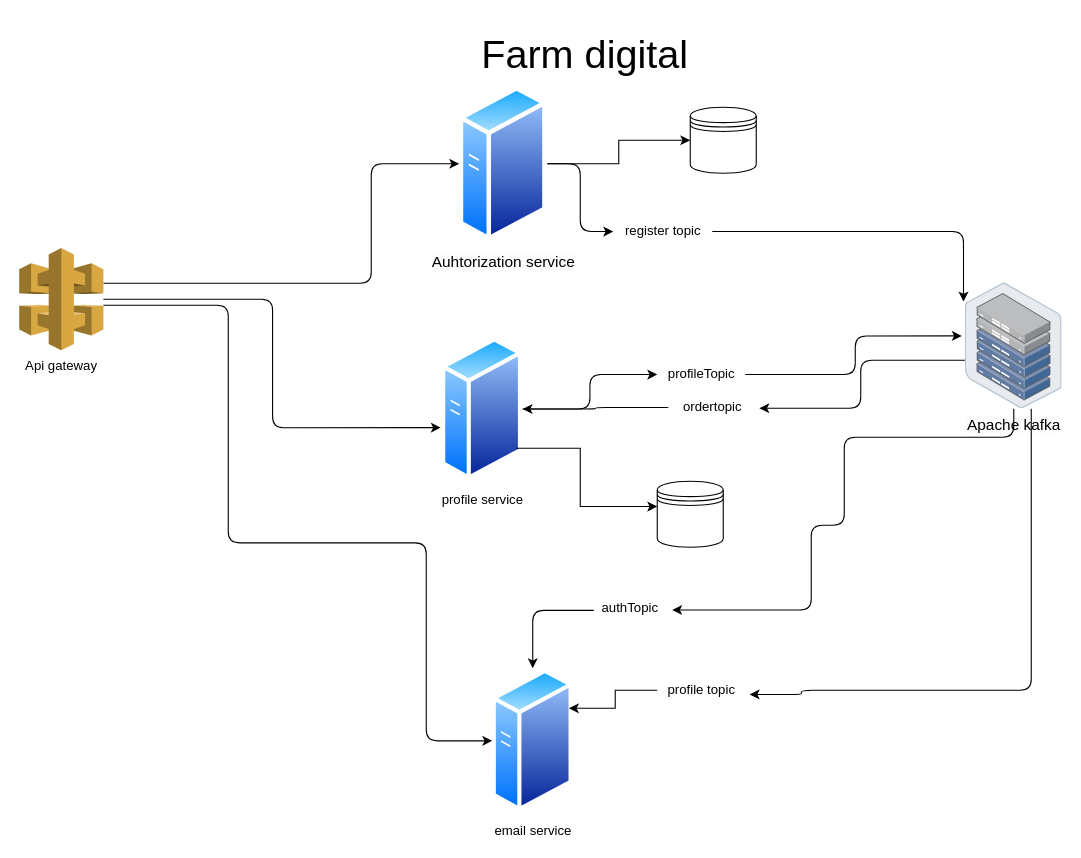
Image size: 1081x858. Some labels were removed from this diagram. The centre of each missing label's shape, as x and y in pixels:
authorization database: point (722, 139)
Profile db: point (689, 513)
